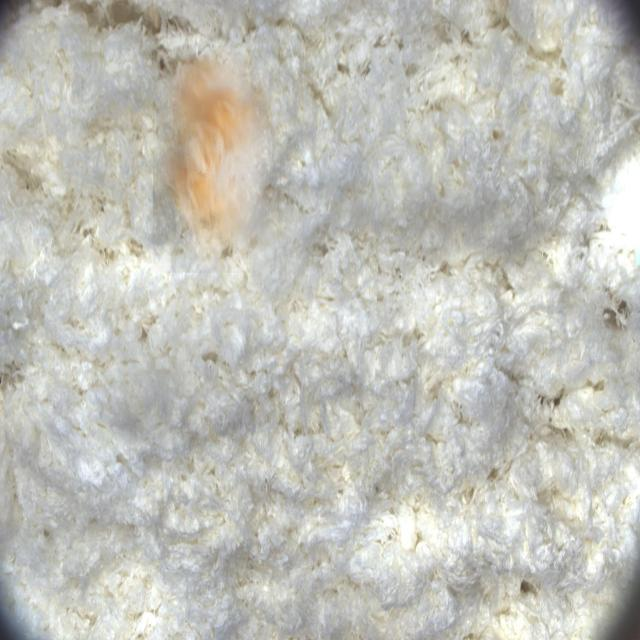dust: (153, 49, 277, 273)
